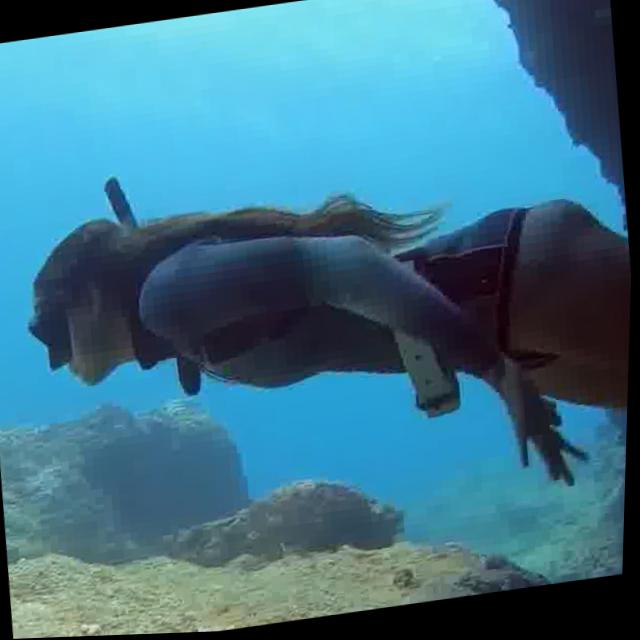human: (0, 91, 637, 573)
